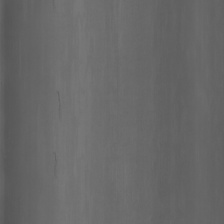water_spot: (50, 81, 69, 173)
